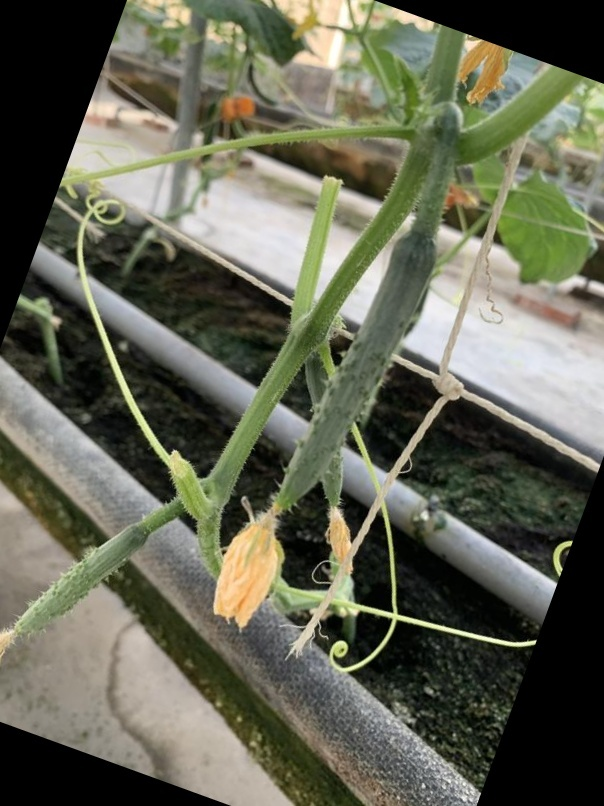flowering: (217, 217, 450, 580)
growth: (240, 222, 446, 608)
